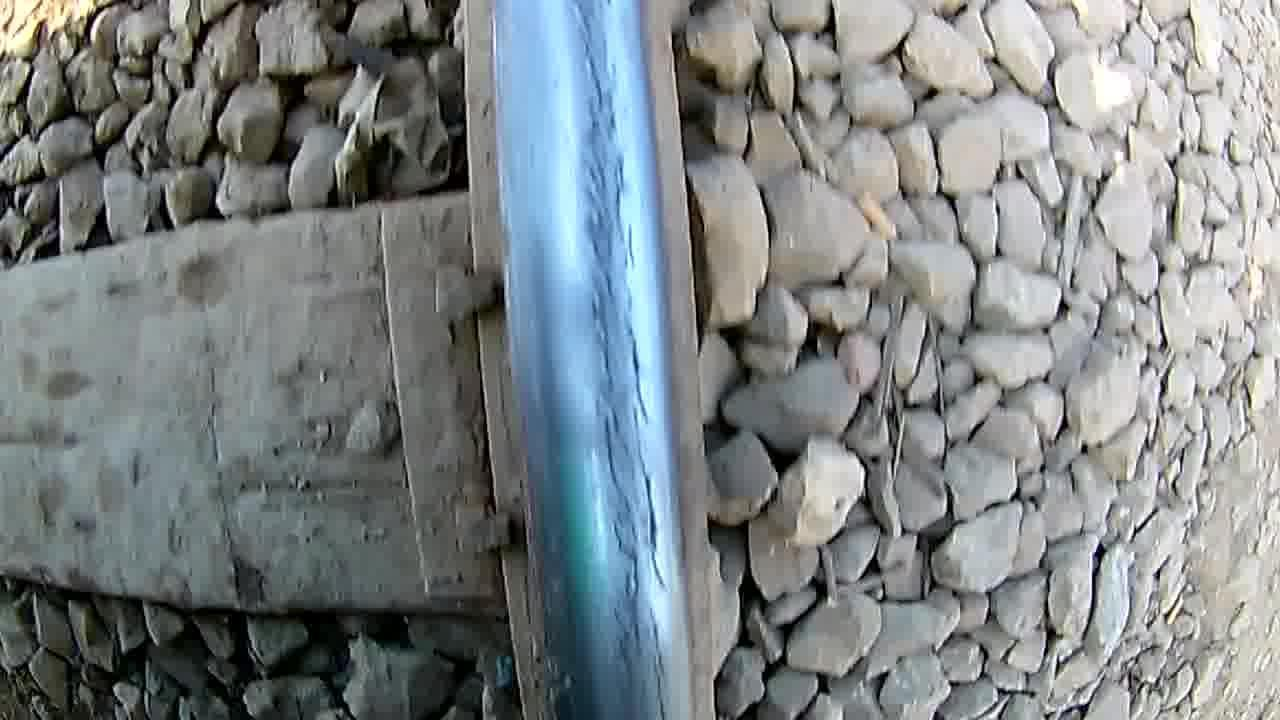crack: (556, 3, 680, 720)
